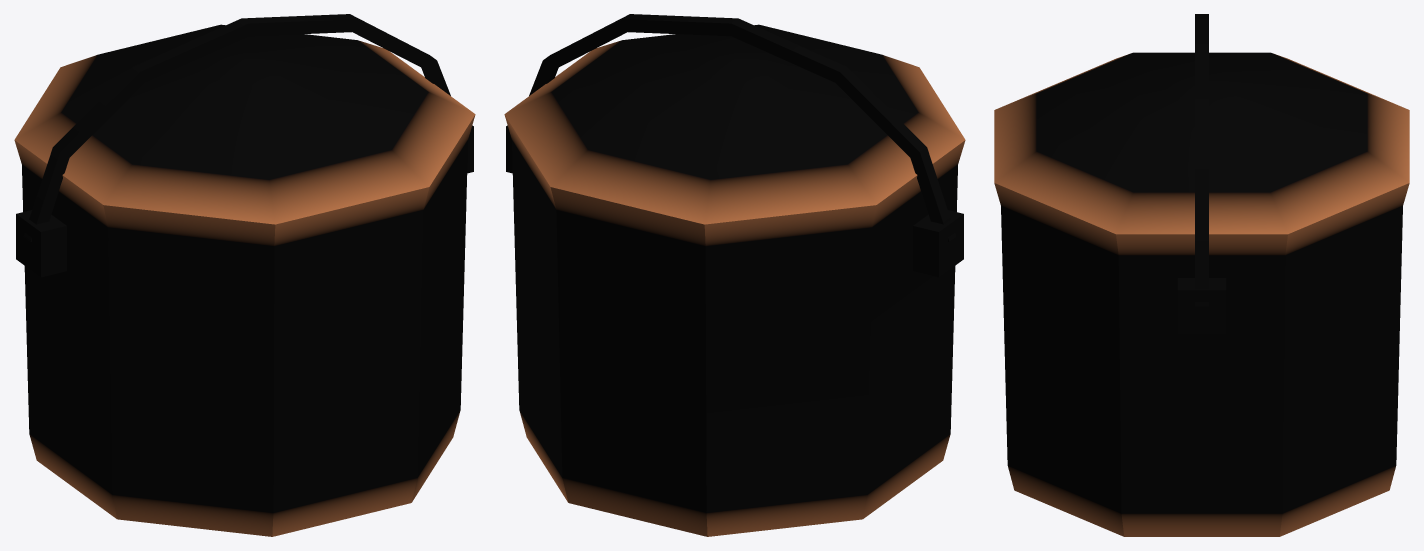
The model's file is stockpot.glb.
The picture shows the model from 3 angles, left to right: view 1: azimuth 30°, elevation 25°; view 2: azimuth 150°, elevation 25°; view 3: azimuth 270°, elevation 25°; orthographic projection. The views are drawn at different scales.
Visible parts, largest first — view 1: copper, iron; view 2: copper, iron; view 3: copper, iron.
Boxes of the visible parts, x1=… form: copper: x1=14, y1=24, x2=475, y2=536; iron: x1=16, y1=14, x2=473, y2=277; copper: x1=504, y1=24, x2=965, y2=536; iron: x1=506, y1=14, x2=963, y2=277; copper: x1=994, y1=52, x2=1409, y2=536; iron: x1=1177, y1=14, x2=1226, y2=333.
Size of the model in its own units: 0.2013 by 0.1888 by 0.1718.
